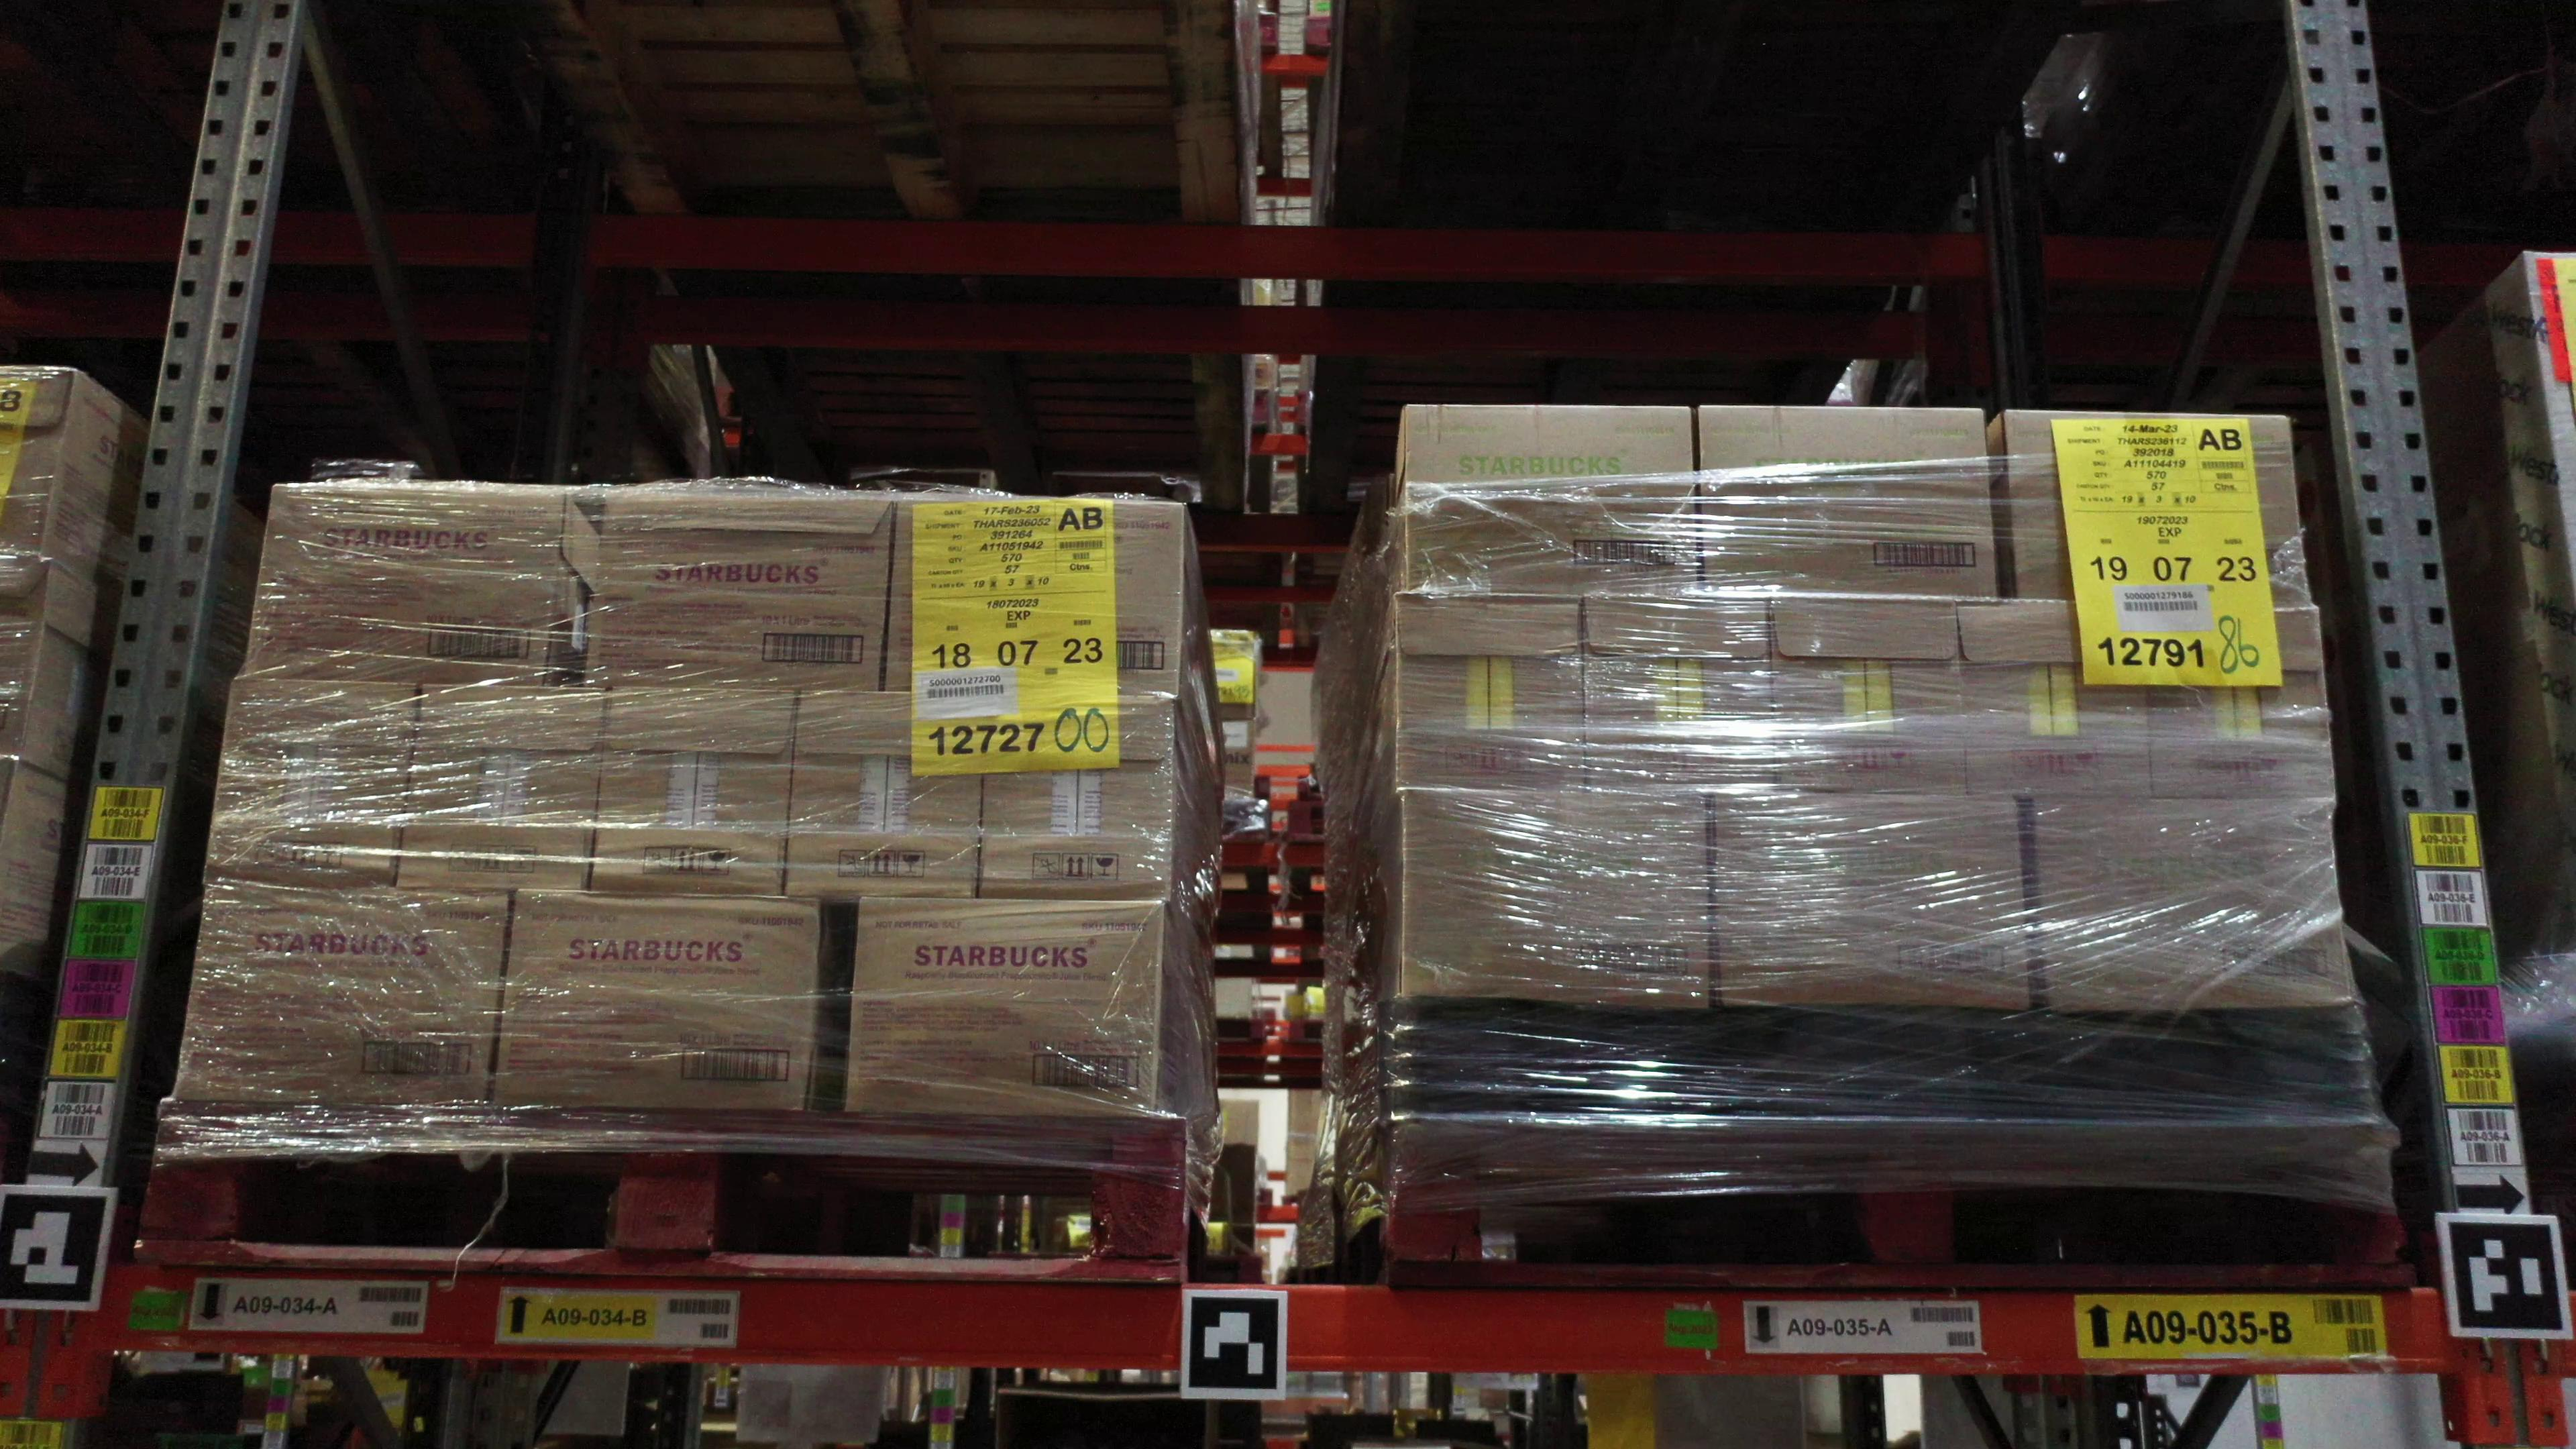-: (490, 883, 823, 1118), (177, 883, 517, 1111), (839, 890, 1162, 1118), (2028, 796, 2357, 1016), (239, 476, 568, 694), (1713, 789, 2036, 1010), (1401, 791, 1713, 1008), (2001, 407, 2314, 616), (1691, 400, 1997, 609), (584, 490, 892, 692), (1399, 402, 1702, 602), (881, 502, 1189, 697), (203, 676, 425, 888), (393, 681, 609, 895), (587, 686, 798, 901), (780, 688, 989, 904), (1769, 594, 1967, 800), (977, 692, 1171, 899), (1957, 600, 2153, 800), (2143, 602, 2337, 803), (1396, 591, 1585, 796), (1583, 596, 1771, 794)
